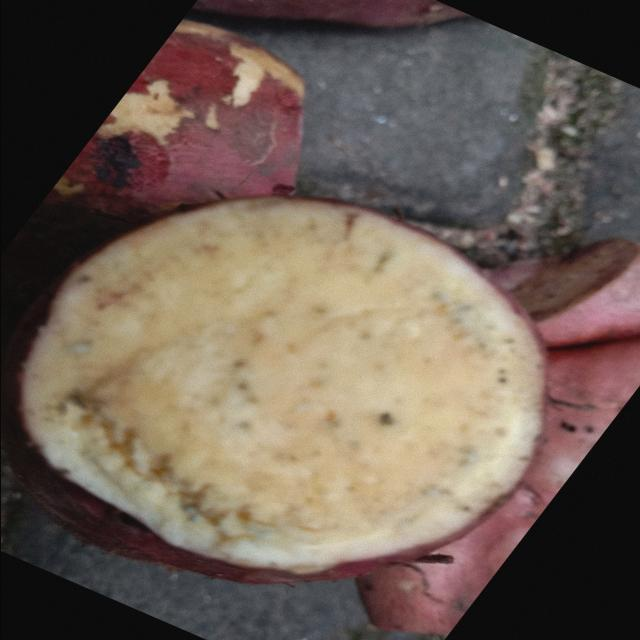Healthy Sweet Potato: (3, 198, 543, 575)
